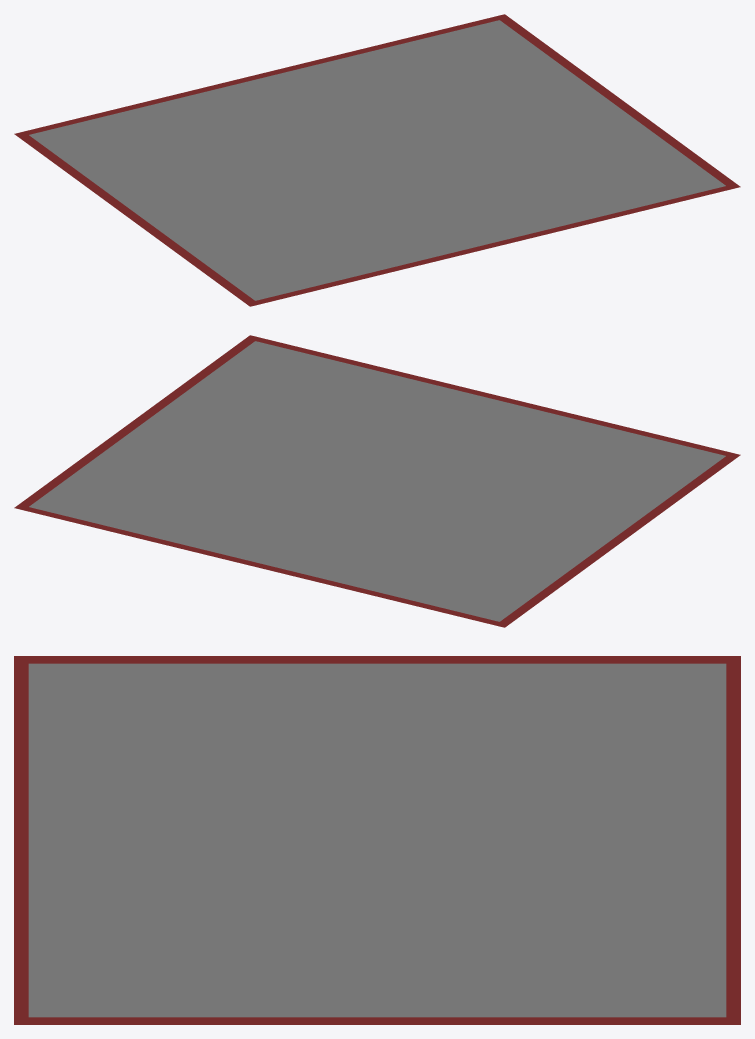
3 renders of one model, top to bottom at view 1: azimuth 30°, elevation 25°; view 2: azimuth 150°, elevation 25°; view 3: azimuth 270°, elevation 25°, orthographic. The views are drawn at different scales.
Visible parts, largest first — view 1: pPlane1 (×2); view 2: pPlane1 (×2); view 3: pPlane1 (×2).
Part boxes in pixels (left/top/right/bottom): pPlane1 (×2): left=14, top=14, right=740, bottom=306; pPlane1 (×2): left=14, top=335, right=740, bottom=627; pPlane1 (×2): left=14, top=656, right=740, bottom=1024.
Bounding box in the file's own units: 2 × 0 × 1.67.
